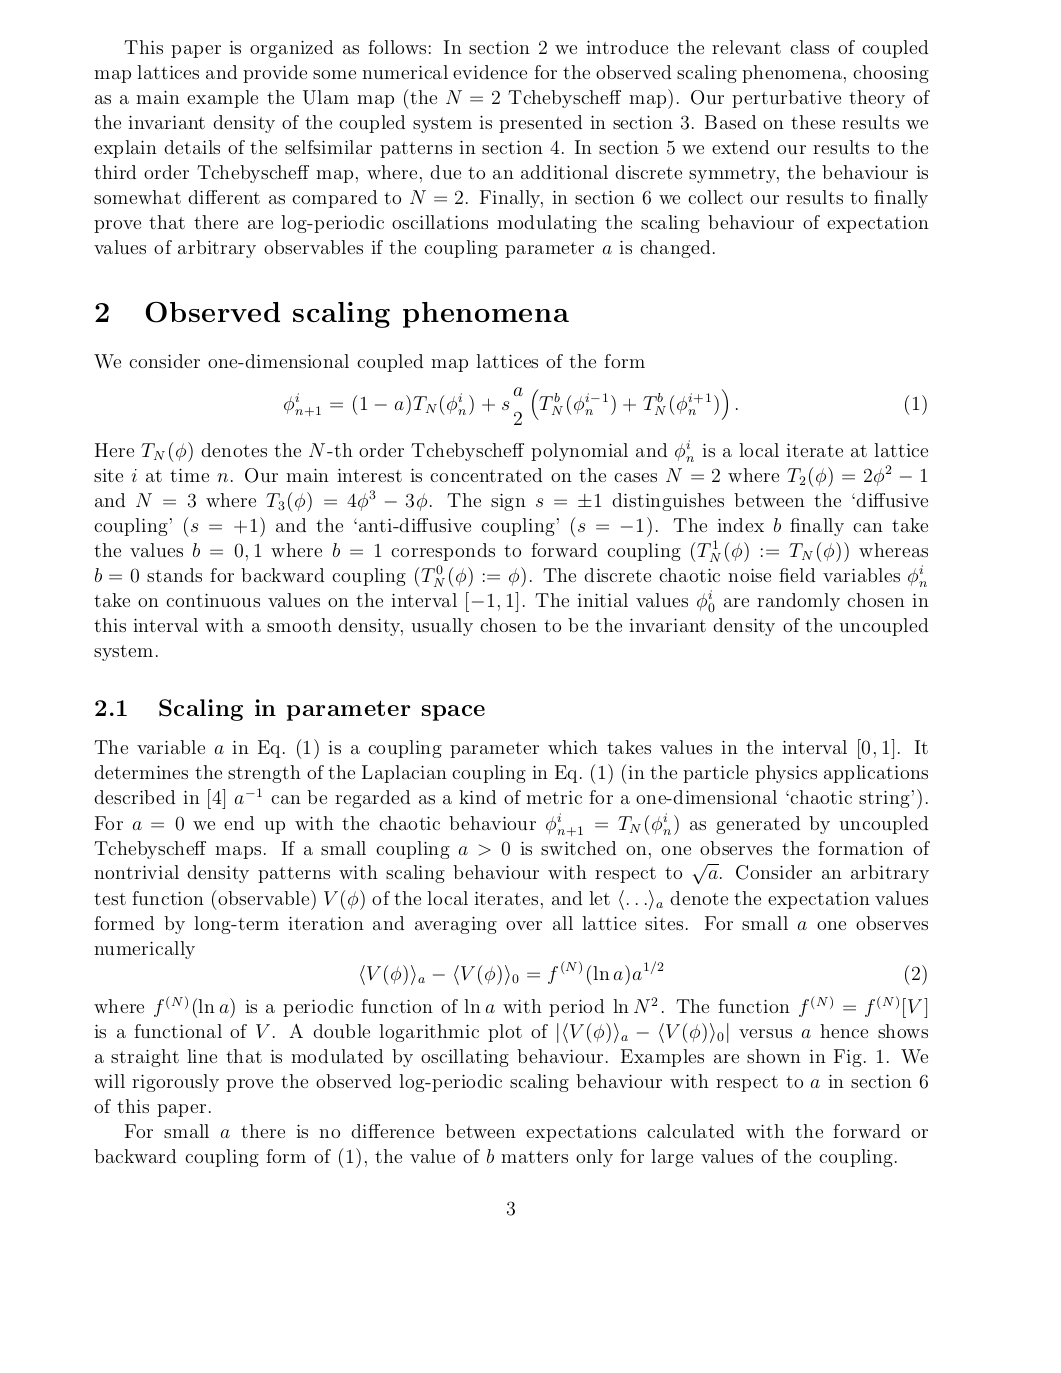formula: (284, 386, 926, 425), (360, 960, 926, 985)
